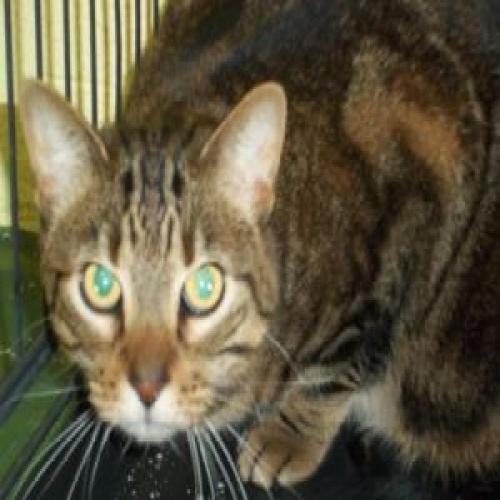bengal: (10, 70, 305, 450)
